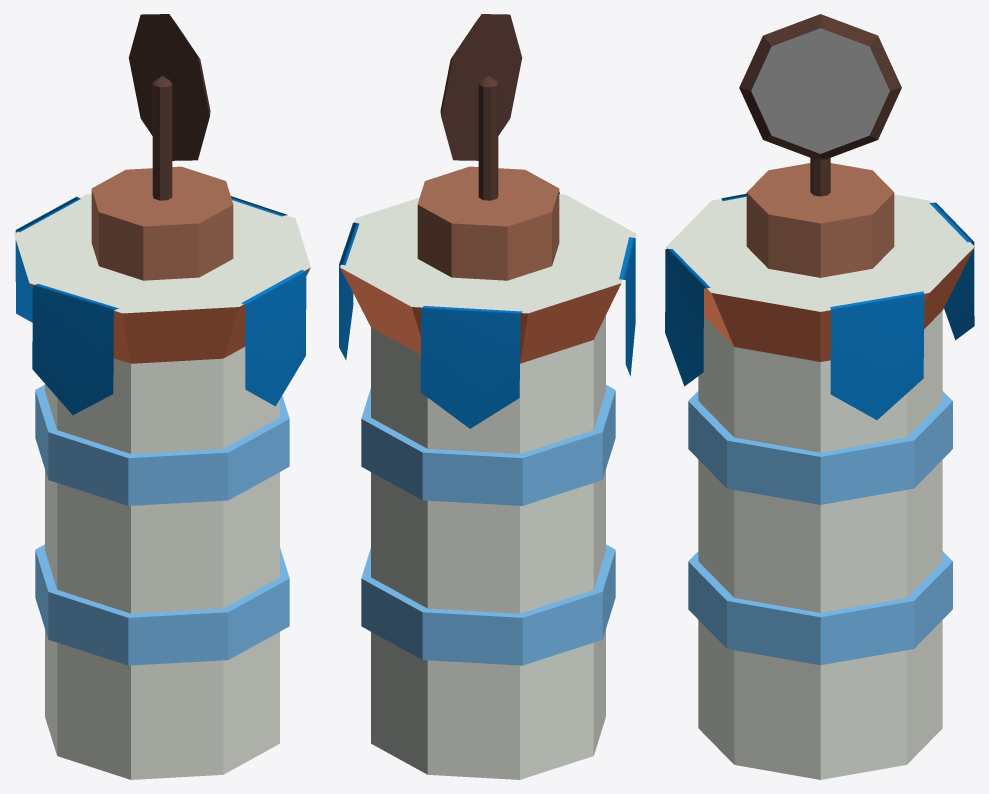
File: fire_tower.fbx
The picture shows the model from 3 angles, left to right: view 1: azimuth 30°, elevation 25°; view 2: azimuth 150°, elevation 25°; view 3: azimuth 270°, elevation 25°; orthographic projection.
Visible parts, largest first — view 1: structure, mirror, banner3, banner, banner2; view 2: structure, banner2, mirror, banner3, banner1; view 3: structure, mirror, banner1, banner, banner2.
Boxes of the visible parts, x1=… form: structure: x1=14, y1=166, x2=310, y2=779; mirror: x1=128, y1=14, x2=210, y2=200; banner3: x1=32, y1=283, x2=118, y2=414; banner: x1=241, y1=270, x2=306, y2=406; banner2: x1=15, y1=196, x2=80, y2=322; structure: x1=340, y1=166, x2=636, y2=779; banner2: x1=420, y1=306, x2=522, y2=428; mirror: x1=440, y1=14, x2=522, y2=200; banner3: x1=619, y1=237, x2=635, y2=376; banner1: x1=339, y1=222, x2=359, y2=360; structure: x1=666, y1=163, x2=974, y2=779; mirror: x1=739, y1=14, x2=901, y2=196; banner1: x1=830, y1=291, x2=924, y2=419; banner: x1=665, y1=249, x2=710, y2=386; banner2: x1=929, y1=202, x2=974, y2=340.
Size of the model in its own units: 3.8 by 9.73 by 3.81.
2 materials, 1 textured.
